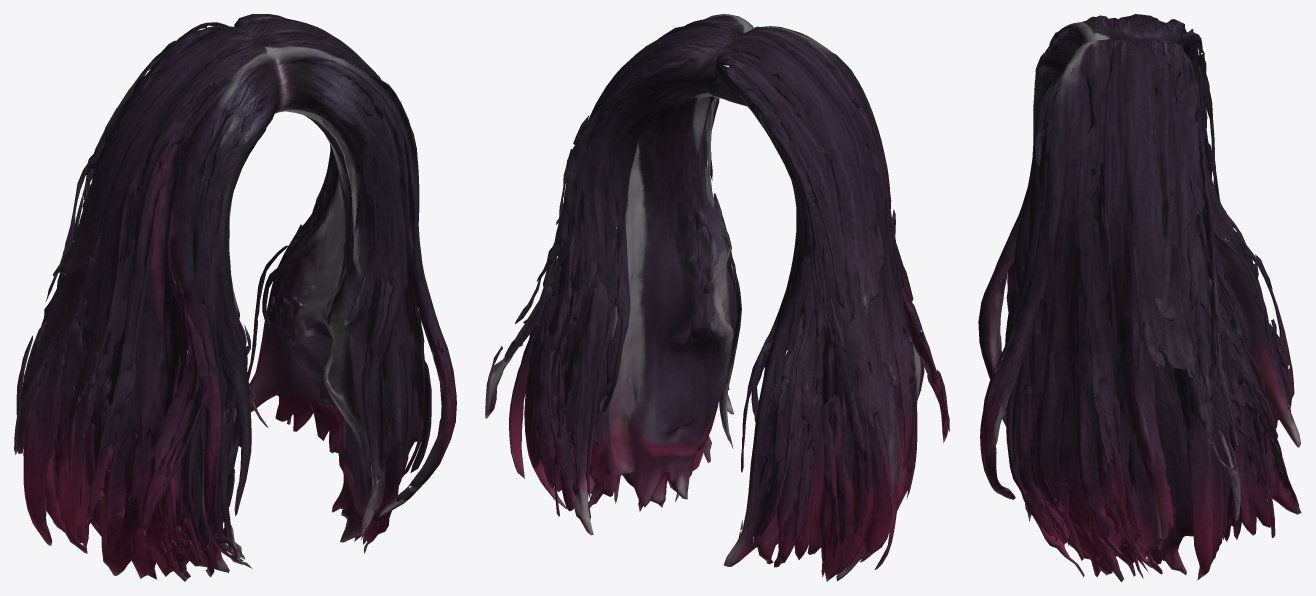
Rendered from kpop-crimson-hair.glb.
3 views of the same model, side by side, from view 1: azimuth 30°, elevation 25°; view 2: azimuth 150°, elevation 25°; view 3: azimuth 270°, elevation 25° (orthographic). The views are drawn at different scales.
Visible parts, largest first — view 1: tripo_node_d7bc5d57-3df4-49b6-9bd2-827ab21c4484; view 2: tripo_node_d7bc5d57-3df4-49b6-9bd2-827ab21c4484; view 3: tripo_node_d7bc5d57-3df4-49b6-9bd2-827ab21c4484.
Boxes of the visible parts, bbox=[...] form: tripo_node_d7bc5d57-3df4-49b6-9bd2-827ab21c4484: bbox=[14, 14, 456, 581]; tripo_node_d7bc5d57-3df4-49b6-9bd2-827ab21c4484: bbox=[485, 14, 949, 581]; tripo_node_d7bc5d57-3df4-49b6-9bd2-827ab21c4484: bbox=[978, 14, 1301, 581].
Bounding box in the file's own units: 1.6 × 1.98 × 1.15.
Materials: 1 (1 with a texture image).
